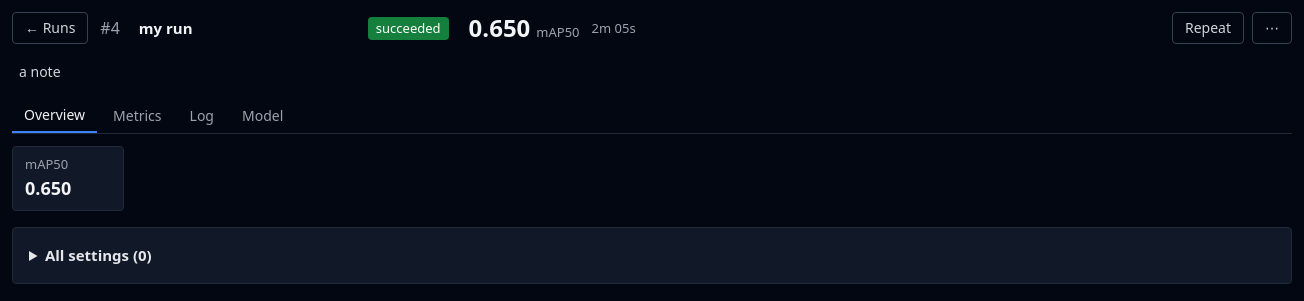
Test case: RunDetail › disables delete with the reason
Click the button named "More actions" at (1272, 28), box [1252,12,1292,44]
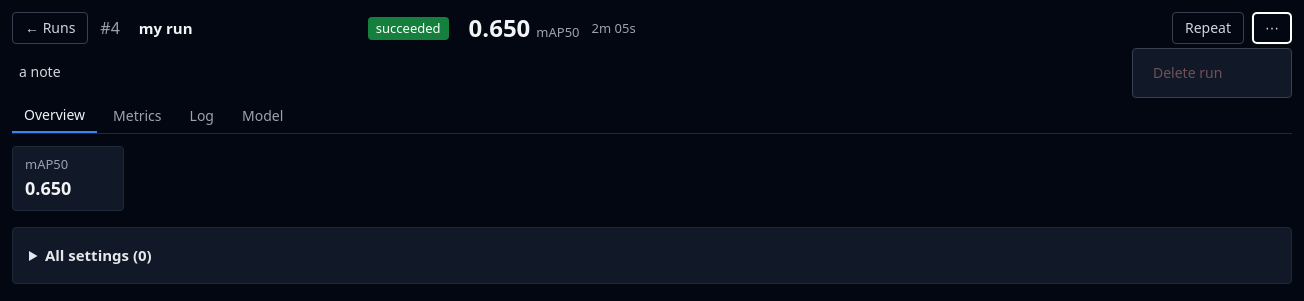
Expected: the menu item with aria-label "Delete run #4" is disabled, [1141,57,1283,89]
